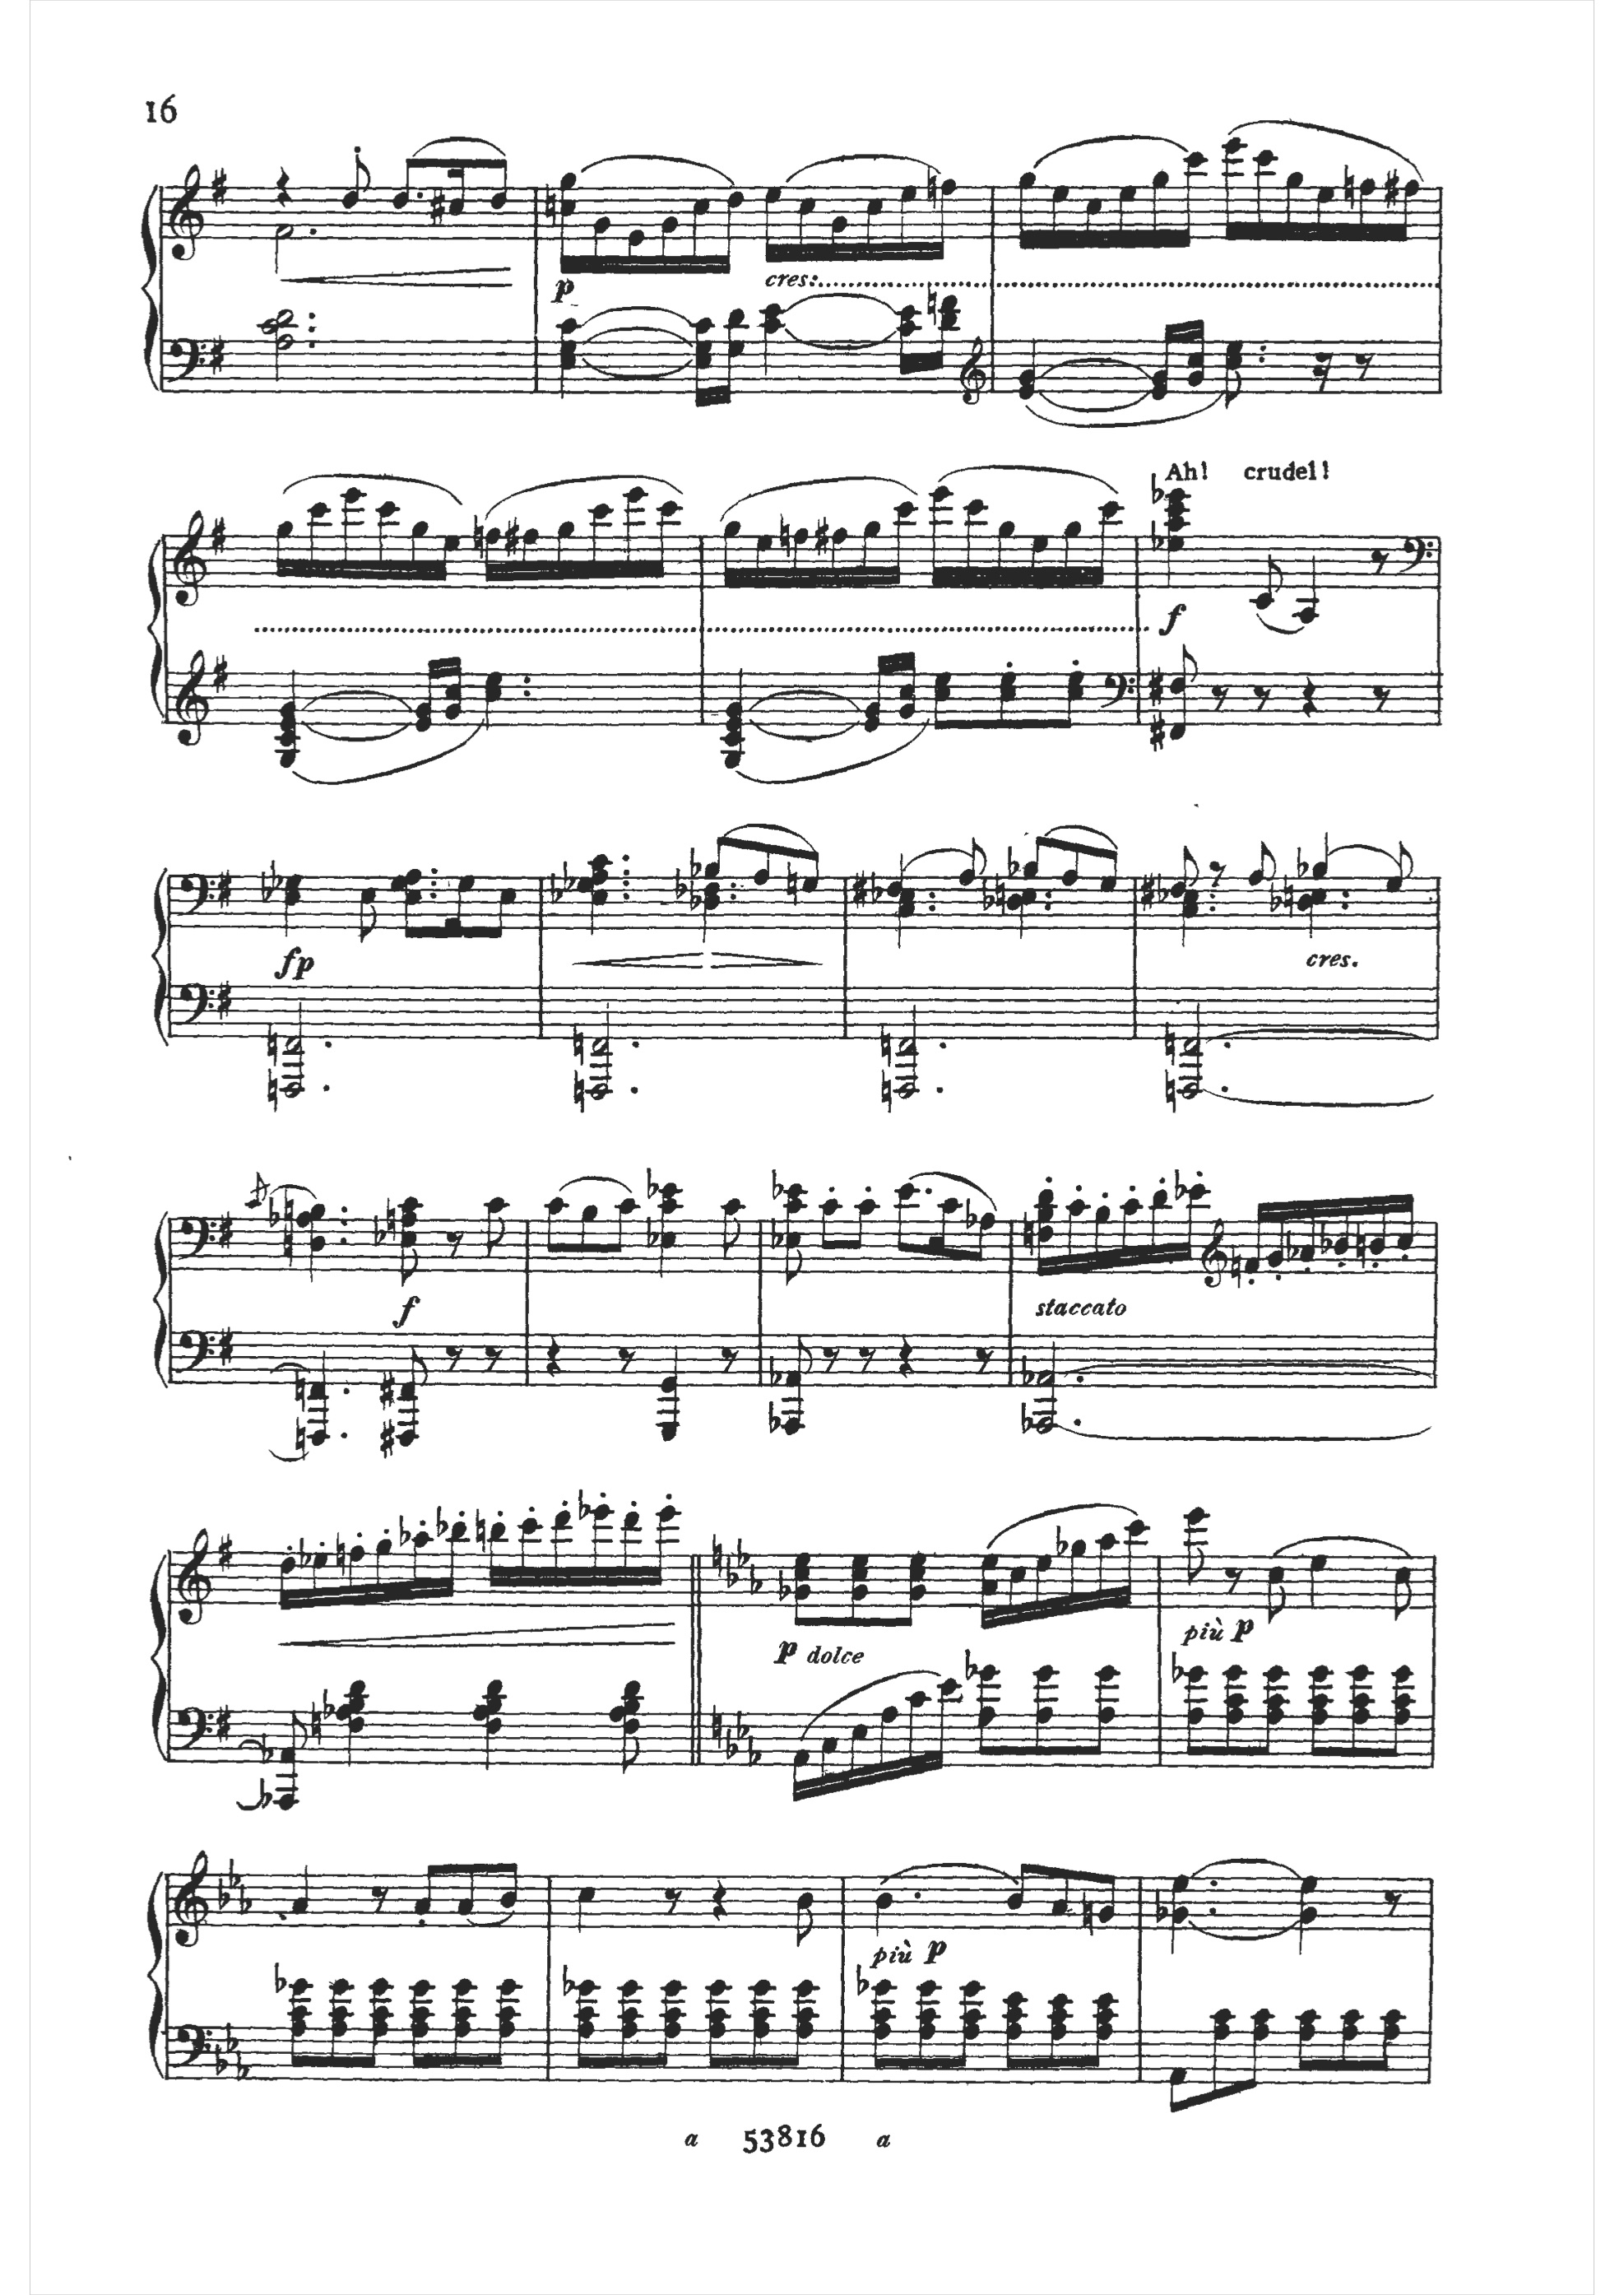bass_clef: (163, 323, 206, 390), (172, 1699, 214, 1763), (170, 2019, 213, 2077), (176, 865, 216, 924), (176, 979, 216, 1035), (176, 1213, 216, 1269), (178, 1327, 218, 1378)
flat: (220, 2021, 243, 2058), (232, 2051, 255, 2086), (225, 1856, 244, 1891), (213, 1875, 230, 1912), (211, 2045, 230, 2079), (237, 1882, 253, 1919)
sharp: (214, 1534, 241, 1578), (213, 1703, 236, 1748), (214, 1325, 237, 1367), (206, 336, 230, 374), (211, 650, 230, 699), (214, 982, 236, 1024), (216, 1211, 237, 1253), (207, 169, 230, 207), (209, 517, 228, 554), (214, 866, 232, 907)
treble_clef: (163, 162, 213, 265), (167, 1847, 213, 1956), (172, 1520, 214, 1634), (170, 647, 213, 747), (169, 503, 207, 612)
